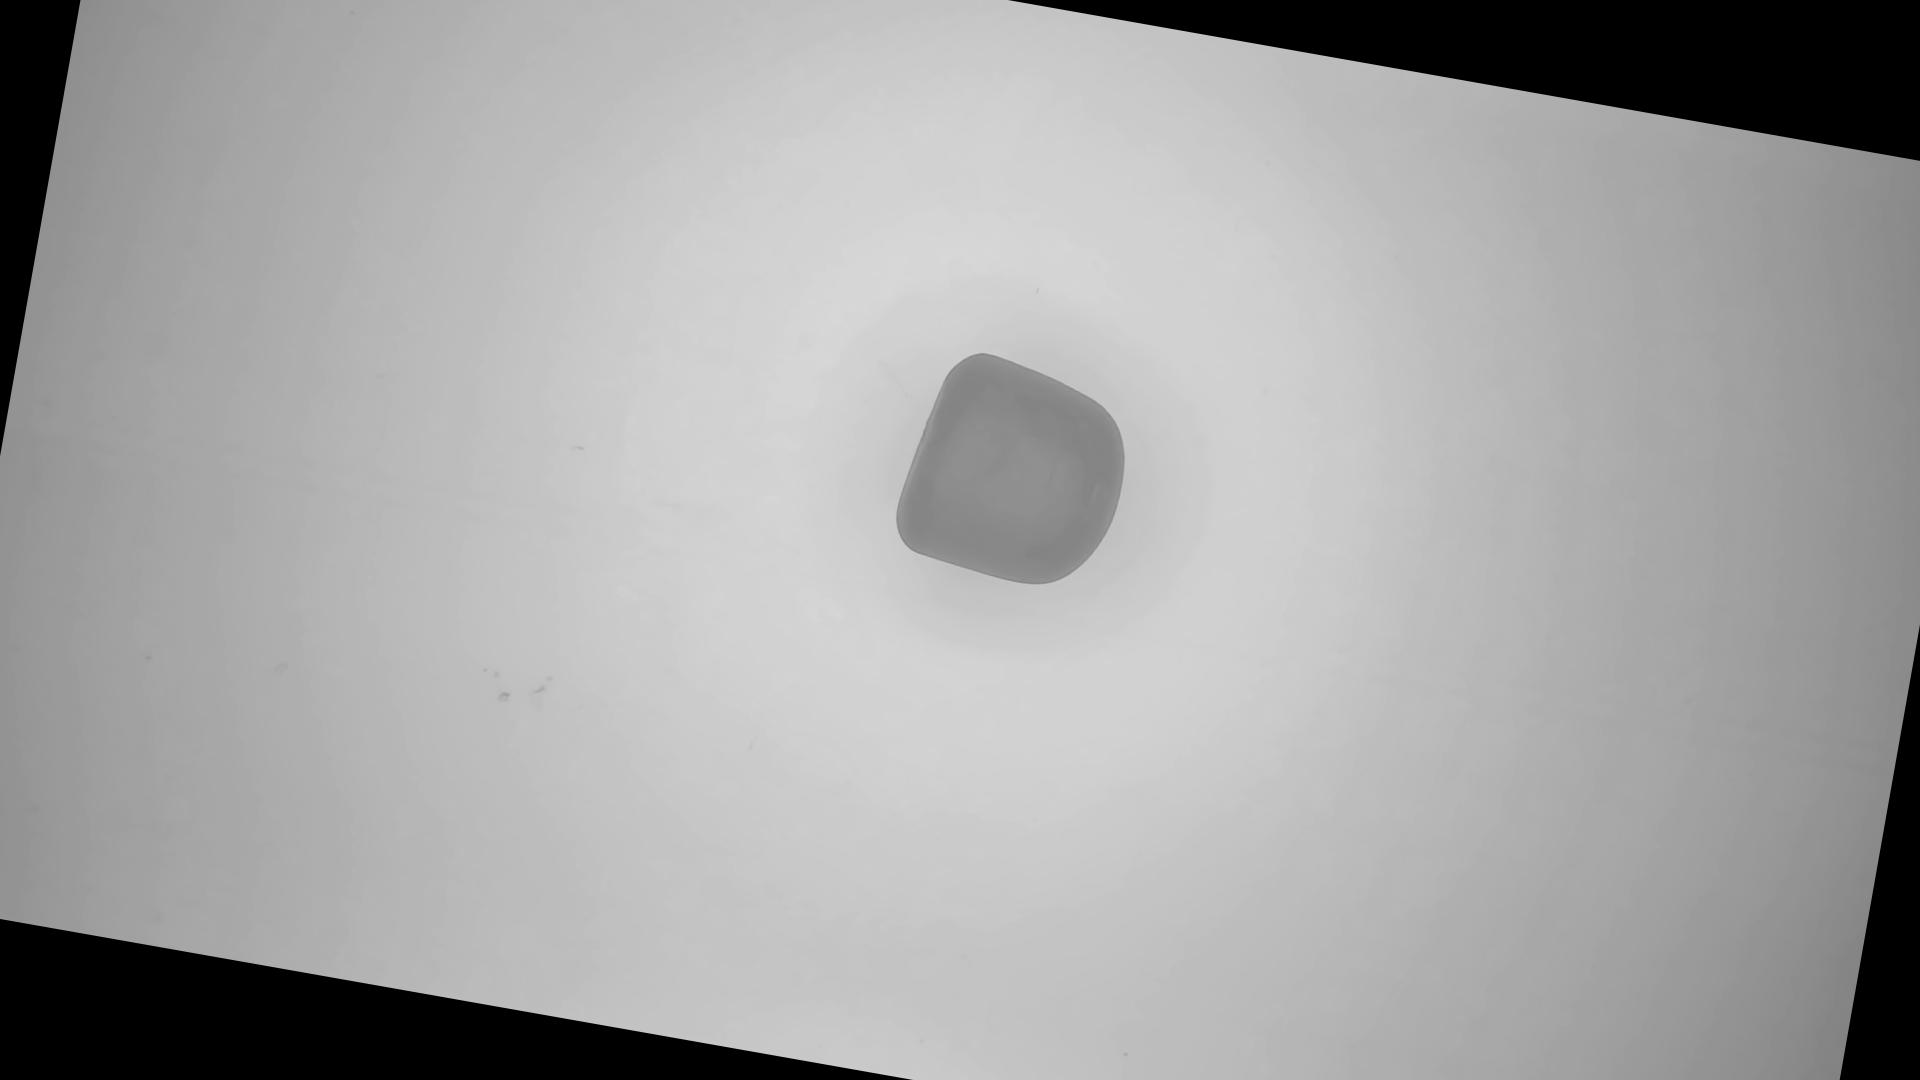normal: (886, 338, 1146, 603)
